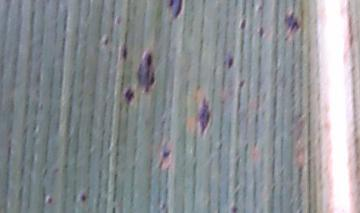tarspot: (135, 50, 157, 95), (197, 94, 211, 134), (164, 1, 187, 21), (282, 10, 300, 34), (119, 41, 129, 68), (122, 86, 136, 104), (225, 51, 235, 72), (76, 191, 90, 205), (159, 147, 172, 161), (256, 23, 266, 40), (98, 35, 113, 46), (236, 78, 247, 91), (237, 16, 247, 30), (44, 194, 55, 206), (229, 202, 239, 213), (109, 204, 118, 213)
